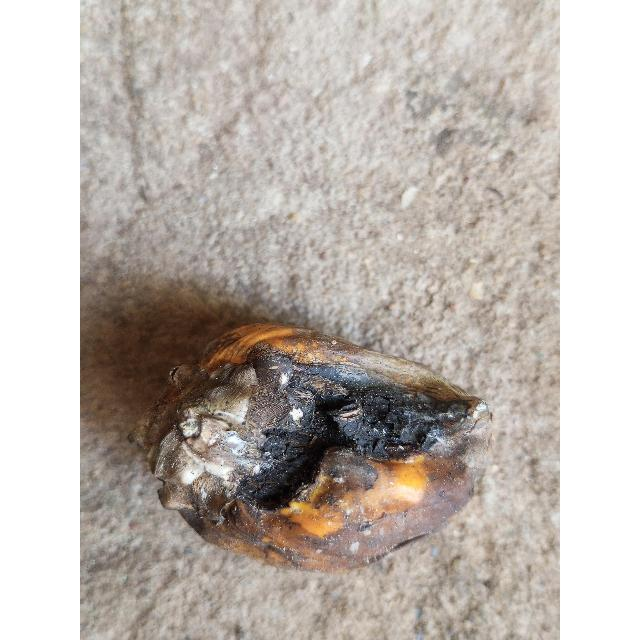damaged: (130, 324, 492, 572)
